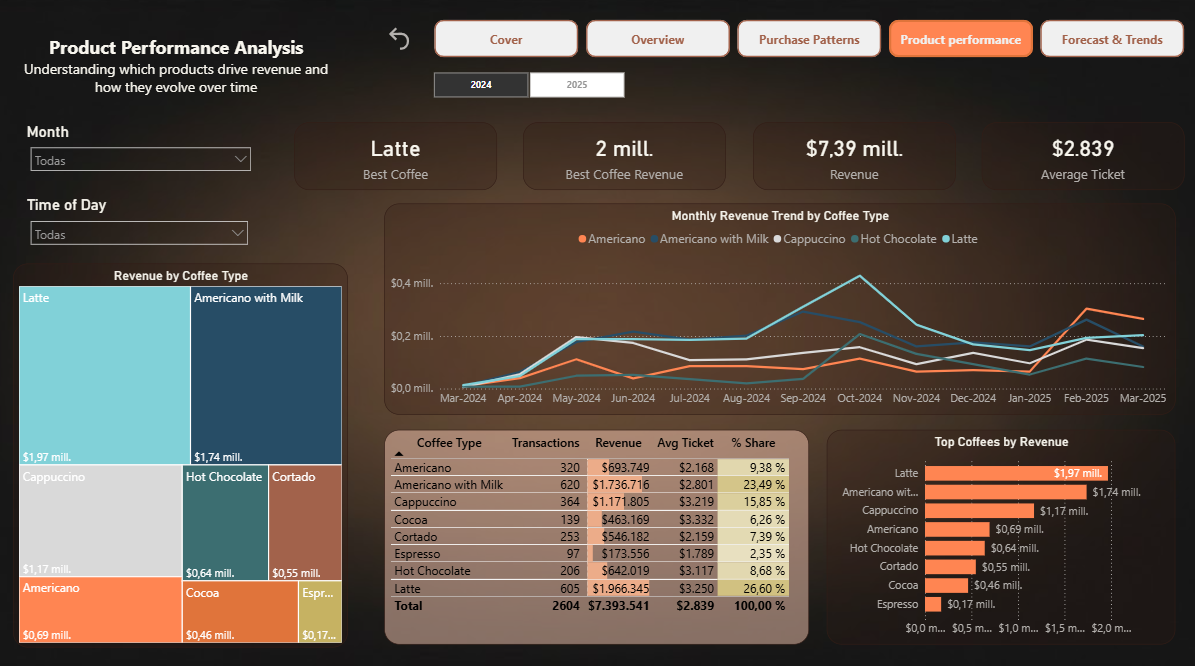

The dashboard page shown, as its layout file describes it:
{"tool":"powerbi","page":{"name":"Product performance","canvas":[1600,900],"ordinal":3},"visuals":[{"type":"pageNavigator","box":[582,32,1000,50],"z":0},{"type":"tableEx","fields":{"Values":["DimProduct.coffee_name","Medidas DAX (2).Transactions","Medidas DAX (2).Revenue","Medidas DAX (2).Avg Ticket","Medidas DAX (2).% Share"]},"box":[515,578.3,566.7,286.7],"z":1000},{"type":"lineChart","title":"Monthly Revenue Trend by Coffee Type","fields":{"Y":["Medidas DAX (2).Revenue"],"Series":["DimProduct.coffee_name"],"Category":["DimDate.MonthYear_Label"]},"box":[515,276.7,1055,281.7],"z":2000},{"type":"barChart","title":"Top Coffees by Revenue","fields":{"Category":["DimProduct.coffee_name"],"Y":["Medidas DAX (2).Revenue"]},"box":[1105,578.3,465,286.7],"z":3000},{"type":"treemap","title":"Revenue by Coffee Type","fields":{"Values":["Medidas DAX (2).Revenue"],"Group":["DimProduct.coffee_name"]},"box":[20,356.7,446.7,511.7],"z":4000},{"type":"textbox","box":[20,25,435,163.3],"z":5000},{"type":"slicer","title":"Month","fields":{"Values":["DimDate.MontName_EN"]},"box":[32.7,168,314,90],"z":6000},{"type":"actionButton","box":[515,36.7,40,40],"z":7000},{"type":"slicer","title":"Time of Day","fields":{"Values":["DimTime.Time_of_Day"]},"box":[33.5,266,310,90],"z":8000},{"type":"card","fields":{"Values":["Medidas DAX (2).Best Coffee"]},"box":[395,168.3,270,90],"z":9000},{"type":"card","fields":{"Values":["Medidas DAX (2).Best Coffee Revenue"]},"box":[700.6,168.3,270,90],"z":10000},{"type":"card","fields":{"Values":["Medidas DAX (2).Avg Ticket"]},"box":[1311.7,168.3,270,90],"z":11000},{"type":"card","fields":{"Values":["Medidas DAX (2).Revenue"]},"box":[1006.1,168.3,270,90],"z":12000},{"type":"slicer","fields":{"Values":["DimDate.Año"]},"box":[555.7,94.3,304.3,47.1],"z":13001}]}

Visuals, with their boxes in screenshot pixels (x1, y1, x2, y2), scaled from the page's 1600x900 canvas onto the 1195x666 screenshot:
pageNavigator: bbox(435, 24, 1182, 61)
tableEx - DimProduct.coffee_name x Medidas DAX (2).Transactions: bbox(385, 428, 808, 640)
"Monthly Revenue Trend by Coffee Type" lineChart: bbox(385, 205, 1173, 413)
"Top Coffees by Revenue" barChart: bbox(825, 428, 1173, 640)
"Revenue by Coffee Type" treemap: bbox(15, 264, 349, 643)
textbox: bbox(15, 18, 340, 139)
"Month" slicer: bbox(24, 124, 259, 191)
actionButton: bbox(385, 27, 415, 57)
"Time of Day" slicer: bbox(25, 197, 257, 263)
card - Medidas DAX (2).Best Coffee: bbox(295, 125, 497, 191)
card - Medidas DAX (2).Best Coffee Revenue: bbox(523, 125, 725, 191)
card - Medidas DAX (2).Avg Ticket: bbox(980, 125, 1181, 191)
card - Medidas DAX (2).Revenue: bbox(751, 125, 953, 191)
slicer - DimDate.Año: bbox(415, 70, 642, 105)
